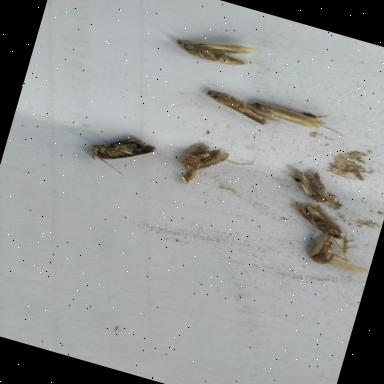pbw: (167, 136, 256, 188), (84, 126, 158, 187), (248, 94, 350, 138), (174, 27, 261, 74), (200, 88, 282, 130), (308, 230, 376, 278), (286, 196, 354, 242), (285, 165, 339, 206)
